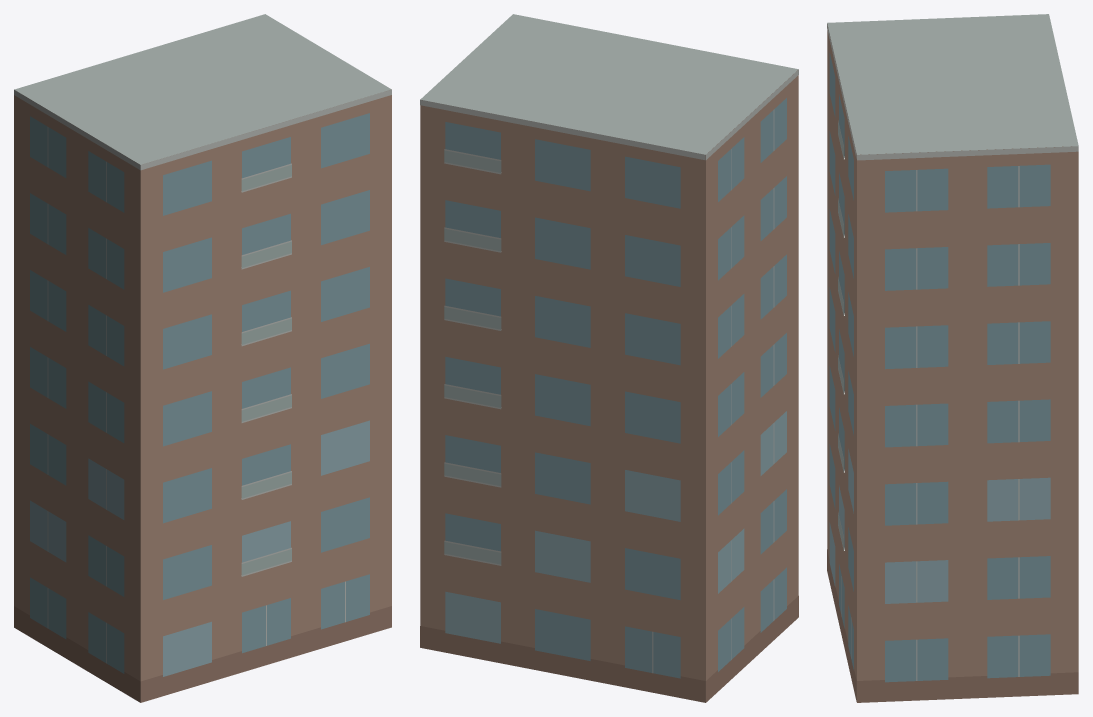
The model's file is survey-upis-32902672.glb.
The picture shows the model from 3 angles, left to right: view 1: azimuth 30°, elevation 25°; view 2: azimuth 150°, elevation 25°; view 3: azimuth 270°, elevation 25°; orthographic projection.
Visible parts, largest first — view 1: survey-upis-32902672.tmp; view 2: survey-upis-32902672.tmp; view 3: survey-upis-32902672.tmp.
Boxes of the visible parts, x1=… form: survey-upis-32902672.tmp: x1=14, y1=14, x2=391, y2=702; survey-upis-32902672.tmp: x1=420, y1=14, x2=798, y2=702; survey-upis-32902672.tmp: x1=827, y1=14, x2=1078, y2=702.
Bounding box in the file's own units: 13.22 × 23.95 × 9.98.
